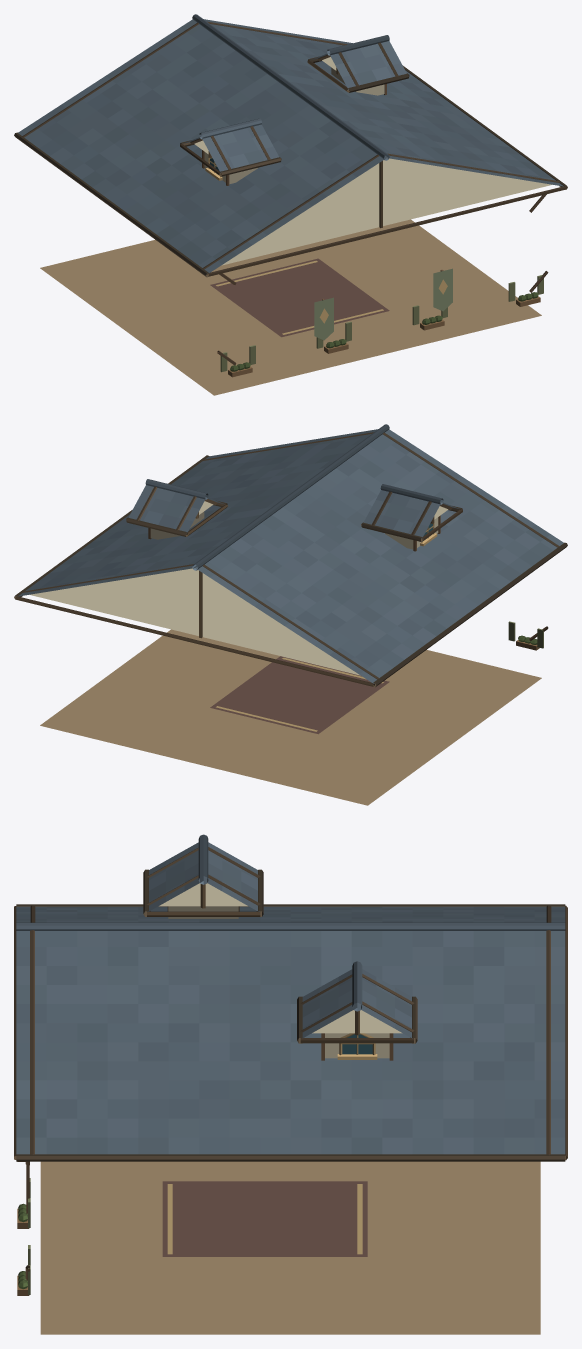
The picture shows the model from 3 angles, top to bottom: view 1: azimuth 30°, elevation 25°; view 2: azimuth 150°, elevation 25°; view 3: azimuth 270°, elevation 25°; orthographic projection. The views are drawn at different scales.
Visible parts, largest first — view 1: 9524bf1d8517f0dad6a6e17029e18ba329ff28b7315574accc9d30a0a1b8; view 2: 9524bf1d8517f0dad6a6e17029e18ba329ff28b7315574accc9d30a0a1b8; view 3: 9524bf1d8517f0dad6a6e17029e18ba329ff28b7315574accc9d30a0a1b8.
Part boxes in pixels (bbox=[...]): 9524bf1d8517f0dad6a6e17029e18ba329ff28b7315574accc9d30a0a1b8: bbox=[14, 14, 567, 395]; 9524bf1d8517f0dad6a6e17029e18ba329ff28b7315574accc9d30a0a1b8: bbox=[14, 424, 567, 805]; 9524bf1d8517f0dad6a6e17029e18ba329ff28b7315574accc9d30a0a1b8: bbox=[14, 834, 567, 1334].
Bounding box in the file's own units: 14.02 × 7.78 × 12.97.
Materials: 6 (1 with a texture image).
